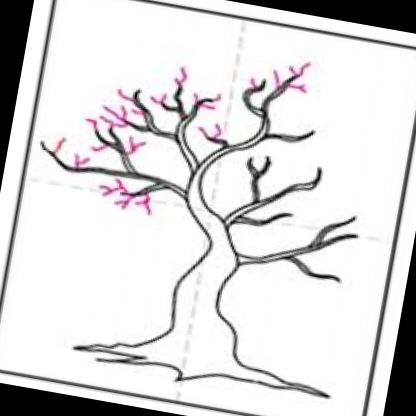branch_sharp: (29, 28, 382, 287)
root_only: (64, 319, 339, 412)
trunk_reflex: (152, 263, 257, 347)
